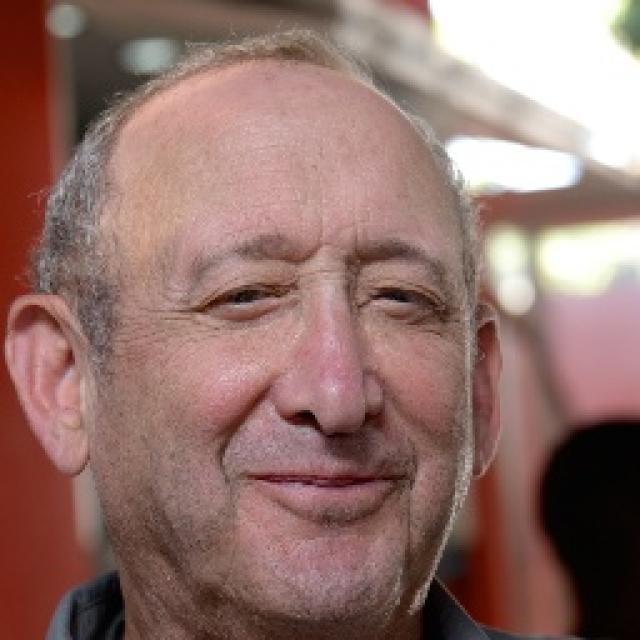earlobe: (5, 293, 94, 477), (468, 308, 504, 481)
